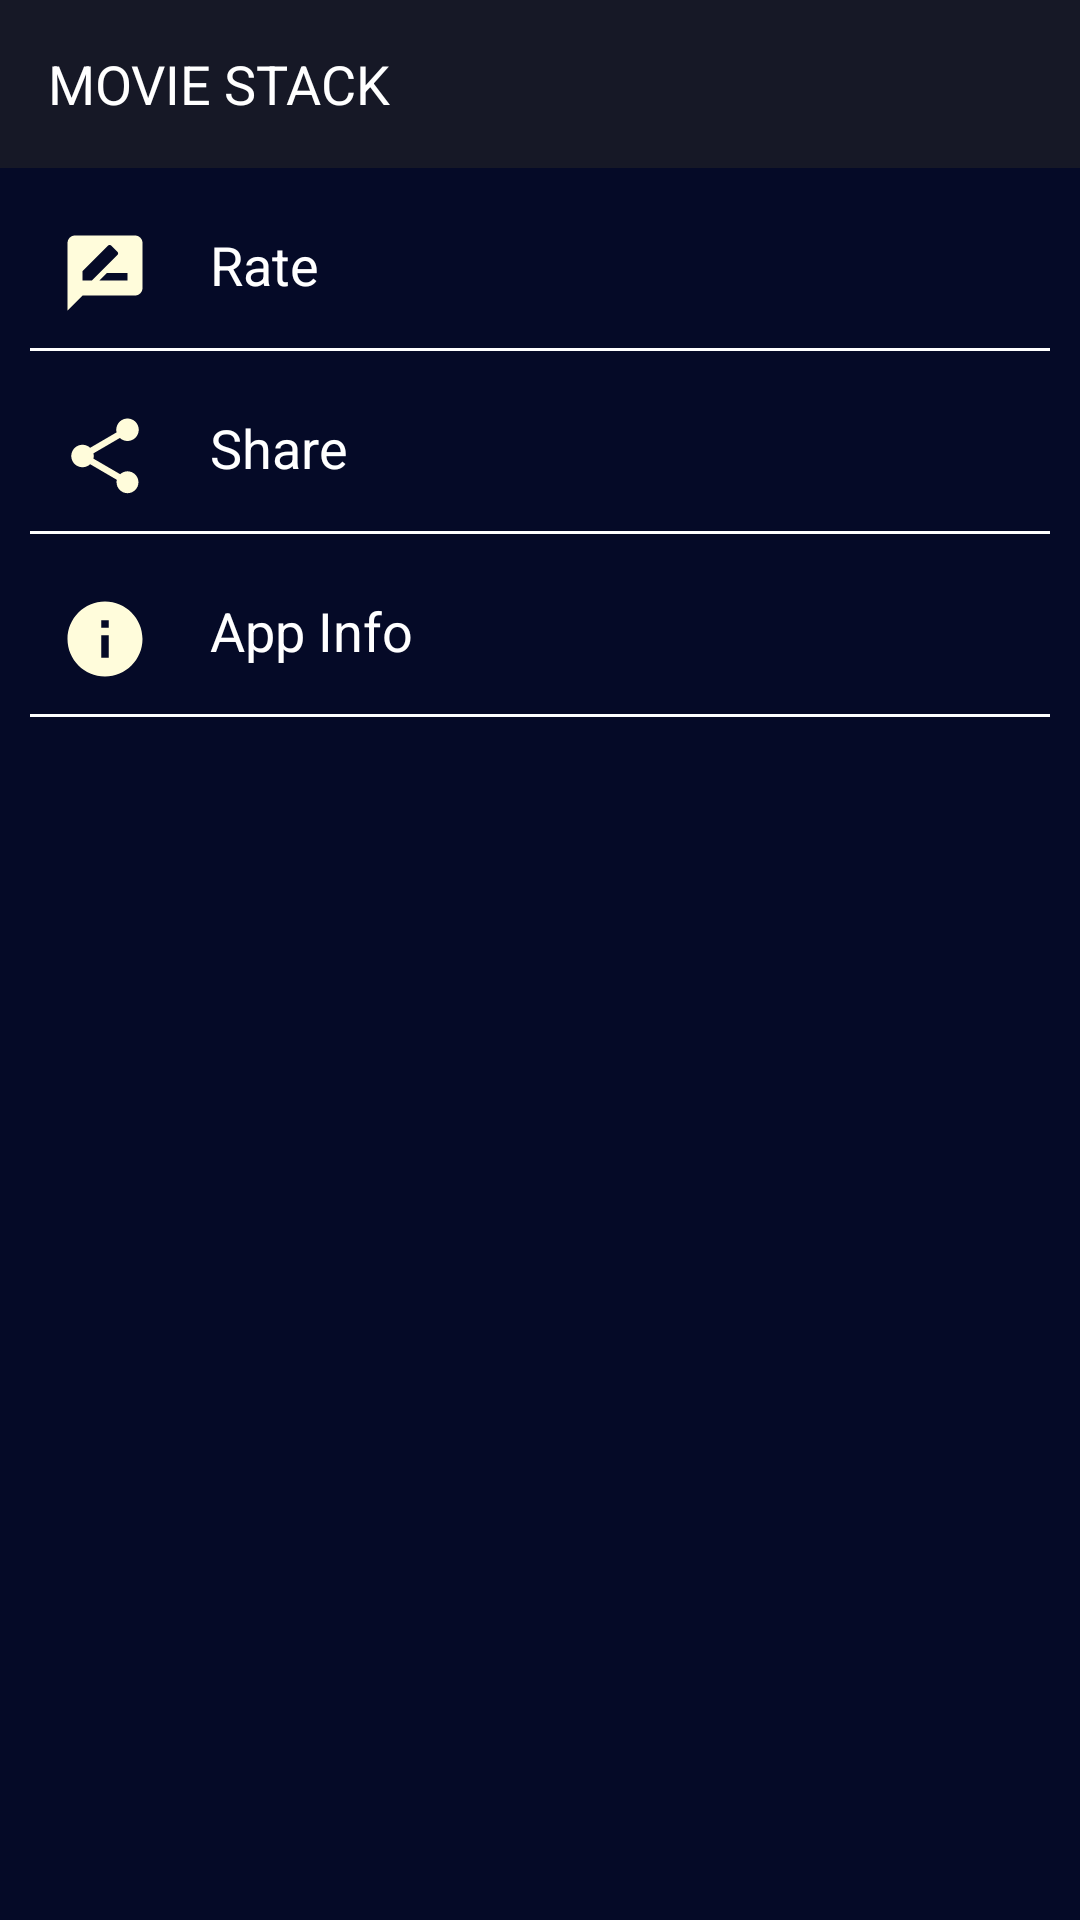

Named icons in this screenshot (1080×1920) and their bounding boxes, bbox=[x1, y1, x2, y2]:
appinfp: bbox=[67, 601, 143, 677]
